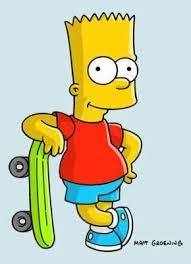Bart: (9, 10, 163, 256)
